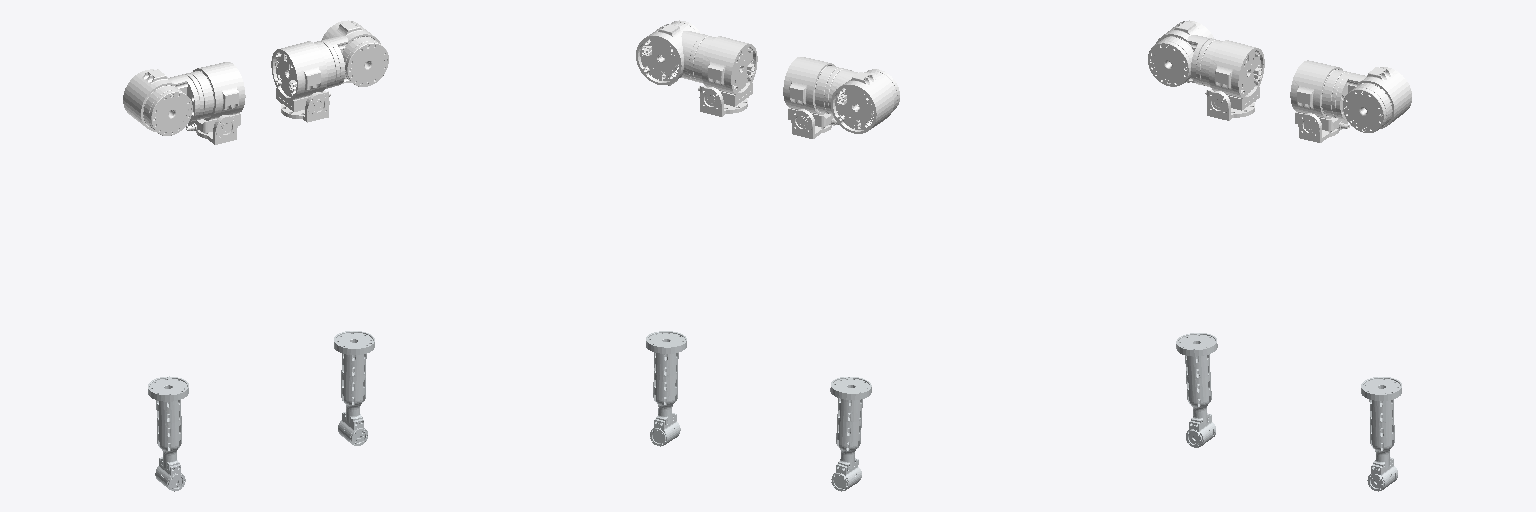
URDF robot description (xiongbuzhengtijiegouzhuangpeiti):
<?xml version="1.0" encoding="utf-8"?>
<!-- This URDF was automatically created by SolidWorks to URDF Exporter! Originally created by Stephen Brawner (brawner@gmail.com) 
     Commit Version: 1.6.0-4-g7f85cfe  Build Version: 1.6.7995.38578
     For more information, please see http://wiki.ros.org/sw_urdf_exporter -->
<robot
  name="xiongbuzhengtijiegouzhuangpeiti">
  <link
    name="base_link">
    <inertial>
      <origin
        xyz="2.86490315897225E-05 -0.0028093251638891 -0.132392076013371"
        rpy="0 0 0" />
      <mass
        value="8.87213228827929" />
      <inertia
        ixx="0.0994926167450825"
        ixy="6.3736643407605E-06"
        ixz="1.1081370968911E-05"
        iyy="0.110178405017903"
        iyz="-1.38216489595909E-05"
        izz="0.024476442885717" />
    </inertial>
    <visual>
      <origin
        xyz="0 0 0"
        rpy="0 0 0" />
      <geometry>
        <mesh
          filename="package://xiongbuzhengtijiegouzhuangpeiti/meshes/base_link.STL" />
      </geometry>
      <material
        name="">
        <color
          rgba="1 1 1 1" />
      </material>
    </visual>
    <collision>
      <origin
        xyz="0 0 0"
        rpy="0 0 0" />
      <geometry>
        <mesh
          filename="package://xiongbuzhengtijiegouzhuangpeiti/meshes/base_link.STL" />
      </geometry>
    </collision>
  </link>
  <link
    name="Joint_Link1">
    <inertial>
      <origin
        xyz="-0.00334797365746048 -1.560596225747E-06 -0.00981428982168435"
        rpy="0 0 0" />
      <mass
        value="0.022262510524164" />
      <inertia
        ixx="1.04201463780991E-05"
        ixy="2.99757107165356E-09"
        ixz="-1.76107618652914E-07"
        iyy="3.98940752985394E-06"
        iyz="-8.20893216648864E-11"
        izz="1.12145856804767E-05" />
    </inertial>
    <visual>
      <origin
        xyz="0 0 0"
        rpy="0 0 0" />
      <geometry>
        <mesh
          filename="package://xiongbuzhengtijiegouzhuangpeiti/meshes/Joint_Link1.STL" />
      </geometry>
      <material
        name="">
        <color
          rgba="1 1 1 1" />
      </material>
    </visual>
    <collision>
      <origin
        xyz="0 0 0"
        rpy="0 0 0" />
      <geometry>
        <mesh
          filename="package://xiongbuzhengtijiegouzhuangpeiti/meshes/Joint_Link1.STL" />
      </geometry>
    </collision>
  </link>
  <joint
    name="Joint_Link1"
    type="revolute">
    <origin
      xyz="0.059 0.0465 0.179"
      rpy="-3.1416 0 3.1416" />
    <parent
      link="base_link" />
    <child
      link="Joint_Link1" />
    <axis
      xyz="0 0 1" />
    <limit
      lower="0"
      upper="0"
      effort="0"
      velocity="0" />
  </joint>
  <link
    name="Joint_Link2">
    <inertial>
      <origin
        xyz="-0.00383114500755982 0.0175122126795097 -0.033001736309234"
        rpy="0 0 0" />
      <mass
        value="0.0594071321720744" />
      <inertia
        ixx="2.67981908726981E-05"
        ixy="-2.2266137728056E-07"
        ixz="6.26189980988072E-09"
        iyy="3.13366994968986E-05"
        iyz="-1.51197922327408E-10"
        izz="1.33461466773124E-05" />
    </inertial>
    <visual>
      <origin
        xyz="0 0 0"
        rpy="0 0 0" />
      <geometry>
        <mesh
          filename="package://xiongbuzhengtijiegouzhuangpeiti/meshes/Joint_Link2.STL" />
      </geometry>
      <material
        name="">
        <color
          rgba="1 1 1 1" />
      </material>
    </visual>
    <collision>
      <origin
        xyz="0 0 0"
        rpy="0 0 0" />
      <geometry>
        <mesh
          filename="package://xiongbuzhengtijiegouzhuangpeiti/meshes/Joint_Link2.STL" />
      </geometry>
    </collision>
  </link>
  <joint
    name="Joint_Link2"
    type="revolute">
    <origin
      xyz="-0.0049846 -0.033002 -0.02"
      rpy="-1.5708 0 -3.1416" />
    <parent
      link="Joint_Link1" />
    <child
      link="Joint_Link2" />
    <axis
      xyz="-0.00046613 0 1" />
    <limit
      lower="0"
      upper="0"
      effort="0"
      velocity="0" />
  </joint>
  <link
    name="Joint_Link3">
    <inertial>
      <origin
        xyz="-0.000196642866239355 0.00784812512218475 0.0250150698223642"
        rpy="0 0 0" />
      <mass
        value="0.055426172638619" />
      <inertia
        ixx="1.5044351662979E-05"
        ixy="-3.31180044924359E-07"
        ixz="4.45569534886764E-08"
        iyy="2.82413010522501E-05"
        iyz="-1.78242330594469E-06"
        izz="3.18621173497541E-05" />
    </inertial>
    <visual>
      <origin
        xyz="0 0 0"
        rpy="0 0 0" />
      <geometry>
        <mesh
          filename="package://xiongbuzhengtijiegouzhuangpeiti/meshes/Joint_Link3.STL" />
      </geometry>
      <material
        name="">
        <color
          rgba="1 1 1 1" />
      </material>
    </visual>
    <collision>
      <origin
        xyz="0 0 0"
        rpy="0 0 0" />
      <geometry>
        <mesh
          filename="package://xiongbuzhengtijiegouzhuangpeiti/meshes/Joint_Link3.STL" />
      </geometry>
    </collision>
  </link>
  <joint
    name="Joint_Link3"
    type="revolute">
    <origin
      xyz="0.033887 0.034135 -0.032984"
      rpy="-1.5703 0 -1.5522" />
    <parent
      link="Joint_Link2" />
    <child
      link="Joint_Link3" />
    <axis
      xyz="0 0 1" />
    <limit
      lower="0"
      upper="0"
      effort="0"
      velocity="0" />
  </joint>
  <link
    name="Joint_Link4">
    <inertial>
      <origin
        xyz="2.50595517491403E-05 -0.0540549980462079 -0.0158564608015931"
        rpy="0 0 0" />
      <mass
        value="0.0762505308121623" />
      <inertia
        ixx="5.31899117942879E-05"
        ixy="-2.05706694743198E-08"
        ixz="-1.59311816625004E-09"
        iyy="2.76526418123669E-05"
        iyz="-6.23215991912103E-06"
        izz="6.7245292259268E-05" />
    </inertial>
    <visual>
      <origin
        xyz="0 0 0"
        rpy="0 0 0" />
      <geometry>
        <mesh
          filename="package://xiongbuzhengtijiegouzhuangpeiti/meshes/Joint_Link4.STL" />
      </geometry>
      <material
        name="">
        <color
          rgba="0.525490196078431 0.525490196078431 0.525490196078431 1" />
      </material>
    </visual>
    <collision>
      <origin
        xyz="0 0 0"
        rpy="0 0 0" />
      <geometry>
        <mesh
          filename="package://xiongbuzhengtijiegouzhuangpeiti/meshes/Joint_Link4.STL" />
      </geometry>
    </collision>
  </link>
  <joint
    name="Joint_Link4"
    type="revolute">
    <origin
      xyz="0.00058922 -0.023493 0.0385"
      rpy="1.5708 -1.5522 0.025076" />
    <parent
      link="Joint_Link3" />
    <child
      link="Joint_Link4" />
    <axis
      xyz="0 0 1" />
    <limit
      lower="0"
      upper="0"
      effort="0"
      velocity="0" />
  </joint>
  <link
    name="Joint_Link5">
    <inertial>
      <origin
        xyz="-0.000782428634288512 -1.8309228950214E-05 0.105941300370148"
        rpy="0 0 0" />
      <mass
        value="0.367807349529203" />
      <inertia
        ixx="0.000488256280495223"
        ixy="4.87558850218644E-07"
        ixz="7.49214177440202E-08"
        iyy="0.000466934453113248"
        iyz="8.32313909778018E-09"
        izz="9.90106770152151E-05" />
    </inertial>
    <visual>
      <origin
        xyz="0 0 0"
        rpy="0 0 0" />
      <geometry>
        <mesh
          filename="package://xiongbuzhengtijiegouzhuangpeiti/meshes/Joint_Link5.STL" />
      </geometry>
      <material
        name="">
        <color
          rgba="0.898039215686275 0.917647058823529 0.929411764705882 1" />
      </material>
    </visual>
    <collision>
      <origin
        xyz="0 0 0"
        rpy="0 0 0" />
      <geometry>
        <mesh
          filename="package://xiongbuzhengtijiegouzhuangpeiti/meshes/Joint_Link5.STL" />
      </geometry>
    </collision>
  </link>
  <joint
    name="Joint_Link5"
    type="revolute">
    <origin
      xyz="0 -0.0983 -0.0245"
      rpy="-1.5708 0 3.1416" />
    <parent
      link="Joint_Link4" />
    <child
      link="Joint_Link5" />
    <axis
      xyz="0 0 -1" />
    <limit
      lower="0"
      upper="0"
      effort="0"
      velocity="0" />
  </joint>
  <link
    name="Joint_Link6">
    <inertial>
      <origin
        xyz="-0.00119417963047772 -0.0469211628879473 0.00907329713524907"
        rpy="0 0 0" />
      <mass
        value="0.132267816058265" />
      <inertia
        ixx="9.44135972808025E-05"
        ixy="-1.22366971203922E-06"
        ixz="3.2133830906589E-07"
        iyy="4.38776037280306E-05"
        iyz="1.29959241814443E-05"
        izz="0.000115386950159482" />
    </inertial>
    <visual>
      <origin
        xyz="0 0 0"
        rpy="0 0 0" />
      <geometry>
        <mesh
          filename="package://xiongbuzhengtijiegouzhuangpeiti/meshes/Joint_Link6.STL" />
      </geometry>
      <material
        name="">
        <color
          rgba="0.898039215686275 0.917647058823529 0.929411764705882 1" />
      </material>
    </visual>
    <collision>
      <origin
        xyz="0 0 0"
        rpy="0 0 0" />
      <geometry>
        <mesh
          filename="package://xiongbuzhengtijiegouzhuangpeiti/meshes/Joint_Link6.STL" />
      </geometry>
    </collision>
  </link>
  <joint
    name="Joint_Link6"
    type="revolute">
    <origin
      xyz="-0.027543 -0.00062082 0.1928"
      rpy="-1.5708 0.025065 -1.5483" />
    <parent
      link="Joint_Link5" />
    <child
      link="Joint_Link6" />
    <axis
      xyz="0 0 -1" />
    <limit
      lower="0"
      upper="0"
      effort="0"
      velocity="0" />
  </joint>
  <link
    name="Joint_Link7">
    <inertial>
      <origin
        xyz="9.6625208274026E-06 -7.79387137876675E-05 0.046147308277027"
        rpy="0 0 0" />
      <mass
        value="0.155504462824399" />
      <inertia
        ixx="0.000142371846784397"
        ixy="1.27232197236131E-08"
        ixz="3.26817483078139E-08"
        iyy="0.000142330681837581"
        iyz="3.59732476311936E-08"
        izz="2.55115633272051E-05" />
    </inertial>
    <visual>
      <origin
        xyz="0 0 0"
        rpy="0 0 0" />
      <geometry>
        <mesh
          filename="package://xiongbuzhengtijiegouzhuangpeiti/meshes/Joint_Link7.STL" />
      </geometry>
      <material
        name="">
        <color
          rgba="0.898039215686275 0.917647058823529 0.929411764705882 1" />
      </material>
    </visual>
    <collision>
      <origin
        xyz="0 0 0"
        rpy="0 0 0" />
      <geometry>
        <mesh
          filename="package://xiongbuzhengtijiegouzhuangpeiti/meshes/Joint_Link7.STL" />
      </geometry>
    </collision>
  </link>
  <joint
    name="Joint_Link7"
    type="continuous">
    <origin
      xyz="-0.0022832 -0.091071 0.0245"
      rpy="1.5708 -1.5483 -0.025065" />
    <parent
      link="Joint_Link6" />
    <child
      link="Joint_Link7" />
    <axis
      xyz="0 0 1" />
  </joint>
  <link
    name="Joint_Link11">
    <inertial>
      <origin
        xyz="-0.00334797365746065 -1.56059622535842E-06 0.00981428982168445"
        rpy="0 0 0" />
      <mass
        value="0.0222625105241639" />
      <inertia
        ixx="1.04201463780992E-05"
        ixy="2.99757105401857E-09"
        ixz="1.76107618652916E-07"
        iyy="3.98940752985391E-06"
        iyz="8.20893207519884E-11"
        izz="1.12145856804767E-05" />
    </inertial>
    <visual>
      <origin
        xyz="0 0 0"
        rpy="0 0 0" />
      <geometry>
        <mesh
          filename="package://xiongbuzhengtijiegouzhuangpeiti/meshes/Joint_Link11.STL" />
      </geometry>
      <material
        name="">
        <color
          rgba="1 1 1 1" />
      </material>
    </visual>
    <collision>
      <origin
        xyz="0 0 0"
        rpy="0 0 0" />
      <geometry>
        <mesh
          filename="package://xiongbuzhengtijiegouzhuangpeiti/meshes/Joint_Link11.STL" />
      </geometry>
    </collision>
  </link>
  <joint
    name="Joint_Link11"
    type="revolute">
    <origin
      xyz="-0.059 0.0465 0.179"
      rpy="0 0 0" />
    <parent
      link="base_link" />
    <child
      link="Joint_Link11" />
    <axis
      xyz="0 0 -1" />
    <limit
      lower="0"
      upper="0"
      effort="0"
      velocity="0" />
  </joint>
  <link
    name="Joint_Link22">
    <inertial>
      <origin
        xyz="-0.00384652617768727 0.0175121887803961 0.033000003495083"
        rpy="0 0 0" />
      <mass
        value="0.0594068764307019" />
      <inertia
        ixx="2.67981063559159E-05"
        ixy="-2.22651677385289E-07"
        ixz="7.18745689534932E-12"
        iyy="3.13366343234934E-05"
        iyz="-2.68504602902167E-12"
        izz="1.33461085521425E-05" />
    </inertial>
    <visual>
      <origin
        xyz="0 0 0"
        rpy="0 0 0" />
      <geometry>
        <mesh
          filename="package://xiongbuzhengtijiegouzhuangpeiti/meshes/Joint_Link22.STL" />
      </geometry>
      <material
        name="">
        <color
          rgba="1 1 1 1" />
      </material>
    </visual>
    <collision>
      <origin
        xyz="0 0 0"
        rpy="0 0 0" />
      <geometry>
        <mesh
          filename="package://xiongbuzhengtijiegouzhuangpeiti/meshes/Joint_Link22.STL" />
      </geometry>
    </collision>
  </link>
  <joint
    name="Joint_Link22"
    type="revolute">
    <origin
      xyz="-0.0049846 -0.033002 0.02"
      rpy="1.5708 0 -3.1411" />
    <parent
      link="Joint_Link11" />
    <child
      link="Joint_Link22" />
    <axis
      xyz="0 0 1" />
    <limit
      lower="0"
      upper="0"
      effort="0"
      velocity="0" />
  </joint>
  <link
    name="Joint_Link33">
    <inertial>
      <origin
        xyz="-0.00784811885843498 0.000197021322421664 0.0250150632711783"
        rpy="0 0 0" />
      <mass
        value="0.0554261730359902" />
      <inertia
        ixx="2.82412780524035E-05"
        ixy="-3.31247435139043E-07"
        ixz="1.78241218357949E-06"
        iyy="1.5044360833217E-05"
        iyz="-4.48611131399805E-08"
        izz="3.18621096983617E-05" />
    </inertial>
    <visual>
      <origin
        xyz="0 0 0"
        rpy="0 0 0" />
      <geometry>
        <mesh
          filename="package://xiongbuzhengtijiegouzhuangpeiti/meshes/Joint_Link33.STL" />
      </geometry>
      <material
        name="">
        <color
          rgba="1 1 1 1" />
      </material>
    </visual>
    <collision>
      <origin
        xyz="0 0 0"
        rpy="0 0 0" />
      <geometry>
        <mesh
          filename="package://xiongbuzhengtijiegouzhuangpeiti/meshes/Joint_Link33.STL" />
      </geometry>
    </collision>
  </link>
  <joint
    name="Joint_Link33"
    type="revolute">
    <origin
      xyz="0.033871 0.034135 0.033"
      rpy="0.018586 1.5708 0" />
    <parent
      link="Joint_Link22" />
    <child
      link="Joint_Link33" />
    <axis
      xyz="0 0 1" />
    <limit
      lower="0"
      upper="0"
      effort="0"
      velocity="0" />
  </joint>
  <link
    name="Joint_Link44">
    <inertial>
      <origin
        xyz="2.50595489825894E-05 -0.0540549980542924 -0.0158564608042644"
        rpy="0 0 0" />
      <mass
        value="0.0762505308358057" />
      <inertia
        ixx="5.31899118001225E-05"
        ixy="-2.05706680499513E-08"
        ixz="-1.59312409933563E-09"
        iyy="2.76526418180844E-05"
        iyz="-6.23215991912176E-06"
        izz="6.72452922611755E-05" />
    </inertial>
    <visual>
      <origin
        xyz="0 0 0"
        rpy="0 0 0" />
      <geometry>
        <mesh
          filename="package://xiongbuzhengtijiegouzhuangpeiti/meshes/Joint_Link44.STL" />
      </geometry>
      <material
        name="">
        <color
          rgba="0.525490196078431 0.525490196078431 0.525490196078431 1" />
      </material>
    </visual>
    <collision>
      <origin
        xyz="0 0 0"
        rpy="0 0 0" />
      <geometry>
        <mesh
          filename="package://xiongbuzhengtijiegouzhuangpeiti/meshes/Joint_Link44.STL" />
      </geometry>
    </collision>
  </link>
  <joint
    name="Joint_Link44"
    type="continuous">
    <origin
      xyz="0.023493 -0.00058922 0.0385"
      rpy="1.5708 1.5522 1.5457" />
    <parent
      link="Joint_Link33" />
    <child
      link="Joint_Link44" />
    <axis
      xyz="0 0 1" />
  </joint>
  <link
    name="Joint_Link55">
    <inertial>
      <origin
        xyz="-0.000782428633465379 -1.83092279772701E-05 0.105941300364667"
        rpy="0 0 0" />
      <mass
        value="0.3678073495059" />
      <inertia
        ixx="0.000488256280489703"
        ixy="4.87558847573242E-07"
        ixz="7.4921417679202E-08"
        iyy="0.000466934453111981"
        iyz="8.32313923355892E-09"
        izz="9.90106770084186E-05" />
    </inertial>
    <visual>
      <origin
        xyz="0 0 0"
        rpy="0 0 0" />
      <geometry>
        <mesh
          filename="package://xiongbuzhengtijiegouzhuangpeiti/meshes/Joint_Link55.STL" />
      </geometry>
      <material
        name="">
        <color
          rgba="0.898039215686275 0.917647058823529 0.929411764705882 1" />
      </material>
    </visual>
    <collision>
      <origin
        xyz="0 0 0"
        rpy="0 0 0" />
      <geometry>
        <mesh
          filename="package://xiongbuzhengtijiegouzhuangpeiti/meshes/Joint_Link55.STL" />
      </geometry>
    </collision>
  </link>
  <joint
    name="Joint_Link55"
    type="continuous">
    <origin
      xyz="0 -0.0983 -0.0245"
      rpy="-1.5708 0 3.1416" />
    <parent
      link="Joint_Link44" />
    <child
      link="Joint_Link55" />
    <axis
      xyz="0 0 -1" />
  </joint>
  <link
    name="Joint_Link66">
    <inertial>
      <origin
        xyz="-0.00119417962910937 -0.0469211628870385 0.00907329713483619"
        rpy="0 0 0" />
      <mass
        value="0.132267816053897" />
      <inertia
        ixx="9.44135972830465E-05"
        ixy="-1.22366971329504E-06"
        ixz="3.21338308835207E-07"
        iyy="4.38776037270326E-05"
        iyz="1.29959241813664E-05"
        izz="0.000115386950155783" />
    </inertial>
    <visual>
      <origin
        xyz="0 0 0"
        rpy="0 0 0" />
      <geometry>
        <mesh
          filename="package://xiongbuzhengtijiegouzhuangpeiti/meshes/Joint_Link66.STL" />
      </geometry>
      <material
        name="">
        <color
          rgba="0.898039215686275 0.917647058823529 0.929411764705882 1" />
      </material>
    </visual>
    <collision>
      <origin
        xyz="0 0 0"
        rpy="0 0 0" />
      <geometry>
        <mesh
          filename="package://xiongbuzhengtijiegouzhuangpeiti/meshes/Joint_Link66.STL" />
      </geometry>
    </collision>
  </link>
  <joint
    name="Joint_Link66"
    type="revolute">
    <origin
      xyz="-0.027543 -0.00062082 0.1928"
      rpy="-1.5708 0.025065 -1.5483" />
    <parent
      link="Joint_Link55" />
    <child
      link="Joint_Link66" />
    <axis
      xyz="0 0 -1" />
    <limit
      lower="0"
      upper="0"
      effort="0"
      velocity="0" />
  </joint>
  <link
    name="Joint_Link77">
    <inertial>
      <origin
        xyz="9.66252082723607E-06 -7.79387137878063E-05 0.0461473082770269"
        rpy="0 0 0" />
      <mass
        value="0.155504462824398" />
      <inertia
        ixx="0.000142371846784396"
        ixy="1.27232197236037E-08"
        ixz="3.26817483078476E-08"
        iyy="0.00014233068183758"
        iyz="3.59732476311622E-08"
        izz="2.55115633272051E-05" />
    </inertial>
    <visual>
      <origin
        xyz="0 0 0"
        rpy="0 0 0" />
      <geometry>
        <mesh
          filename="package://xiongbuzhengtijiegouzhuangpeiti/meshes/Joint_Link77.STL" />
      </geometry>
      <material
        name="">
        <color
          rgba="0.898039215686275 0.917647058823529 0.929411764705882 1" />
      </material>
    </visual>
    <collision>
      <origin
        xyz="0 0 0"
        rpy="0 0 0" />
      <geometry>
        <mesh
          filename="package://xiongbuzhengtijiegouzhuangpeiti/meshes/Joint_Link77.STL" />
      </geometry>
    </collision>
  </link>
  <joint
    name="Joint_Link77"
    type="revolute">
    <origin
      xyz="-0.0022832 -0.091071 0.0245"
      rpy="1.5708 -1.5483 -0.025065" />
    <parent
      link="Joint_Link66" />
    <child
      link="Joint_Link77" />
    <axis
      xyz="0 0 1" />
    <limit
      lower="0"
      upper="0"
      effort="0"
      velocity="0" />
  </joint>
</robot>

--- What the picture shows (computed from the rendered views, not written in the file) ---
3 views of the same robot in one strip: view 1: azimuth 30°, elevation 25°; view 2: azimuth 150°, elevation 25°; view 3: azimuth 330°, elevation 25° (orthographic).
Robot: xiongbuzhengtijiegouzhuangpeiti — 15 links, 14 joints (11 revolute, 3 continuous); root link base_link; default pose: all joints at 0.
Links seen in each view (by area): view 1: Joint_Link33, Joint_Link2, Joint_Link7, Joint_Link77, Joint_Link3, Joint_Link22, Joint_Link1, Joint_Link11; view 2: Joint_Link2, Joint_Link33, Joint_Link3, Joint_Link7, Joint_Link77, Joint_Link22, Joint_Link1, Joint_Link11; view 3: Joint_Link3, Joint_Link22, Joint_Link77, Joint_Link7, Joint_Link2, Joint_Link33, Joint_Link11, Joint_Link1.
Link boxes in pixels (x1=…): Joint_Link33: x1=123, y1=69, x2=199, y2=135; Joint_Link2: x1=271, y1=40, x2=340, y2=111; Joint_Link7: x1=334, y1=331, x2=374, y2=445; Joint_Link77: x1=148, y1=376, x2=188, y2=491; Joint_Link3: x1=322, y1=20, x2=388, y2=86; Joint_Link22: x1=185, y1=62, x2=245, y2=132; Joint_Link1: x1=280, y1=92, x2=329, y2=122; Joint_Link11: x1=188, y1=115, x2=237, y2=144; Joint_Link2: x1=689, y1=35, x2=757, y2=106; Joint_Link33: x1=828, y1=69, x2=899, y2=133; Joint_Link3: x1=636, y1=20, x2=704, y2=85; Joint_Link7: x1=646, y1=331, x2=686, y2=446; Joint_Link77: x1=830, y1=377, x2=871, y2=491; Joint_Link22: x1=783, y1=57, x2=843, y2=126; Joint_Link1: x1=699, y1=87, x2=748, y2=116; Joint_Link11: x1=791, y1=109, x2=831, y2=138; Joint_Link3: x1=1336, y1=67, x2=1411, y2=132; Joint_Link22: x1=1196, y1=39, x2=1264, y2=110; Joint_Link77: x1=1176, y1=333, x2=1217, y2=447; Joint_Link7: x1=1361, y1=377, x2=1401, y2=491; Joint_Link2: x1=1290, y1=60, x2=1350, y2=130; Joint_Link33: x1=1148, y1=20, x2=1213, y2=86; Joint_Link11: x1=1207, y1=91, x2=1255, y2=120; Joint_Link1: x1=1298, y1=113, x2=1347, y2=142.
Size in the robot's own frame: 0.3368 by 0.072 by 0.556 metres.
Meshes: 15 distinct files referenced, 8 mesh visuals loaded (8 binary STL); not drawn: 7 (reference not matched to a file when rendering).
